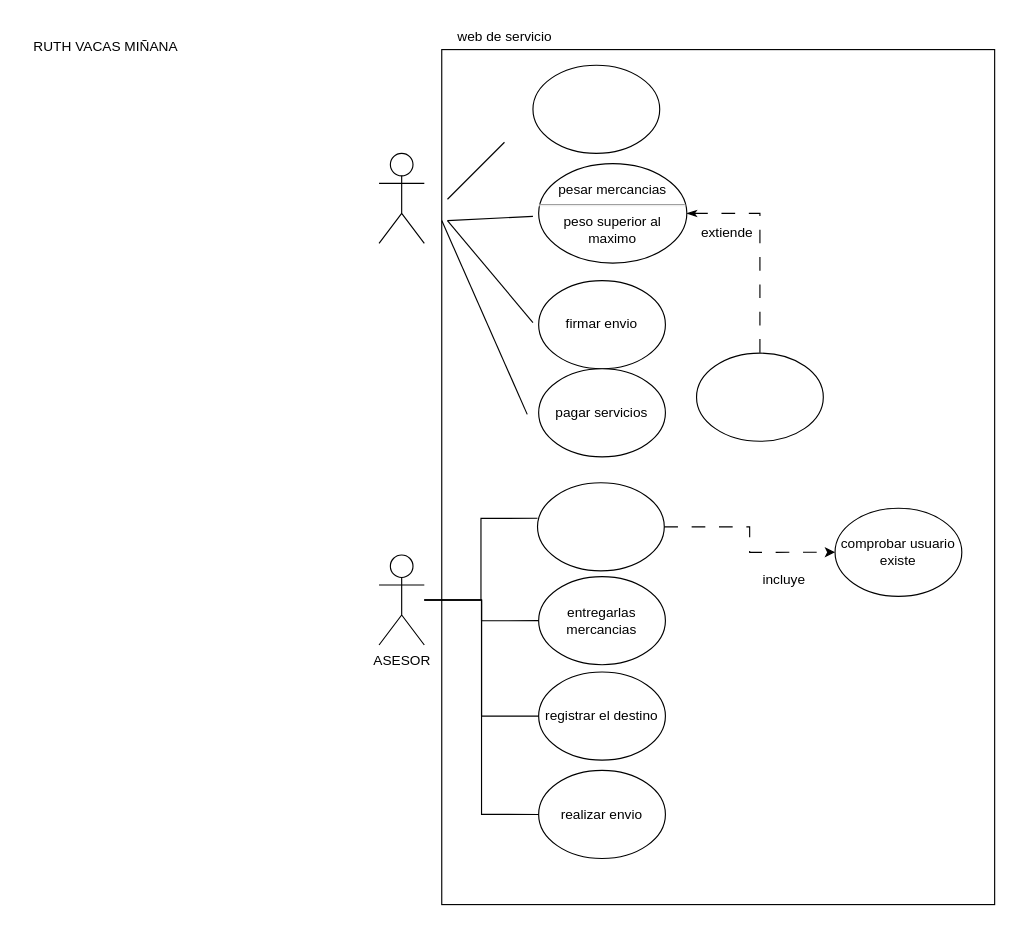
Some shapes in this 1015 by 925 pixel diagram are drawn without their labels. Each missing label, with the centre of its shape:
"formulario de expliacion" belongs at point 759,396.
"Presentar documentos" belongs at point 596,108.
"solicitar datos del usuario" belongs at point 600,526.
"USUARIO" belongs at point 401,197.
